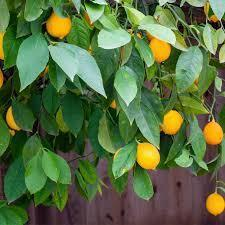lemon: (46, 11, 71, 39), (136, 142, 160, 170), (149, 38, 171, 64), (161, 110, 183, 135), (206, 192, 225, 216), (204, 120, 223, 144), (6, 105, 21, 130)
